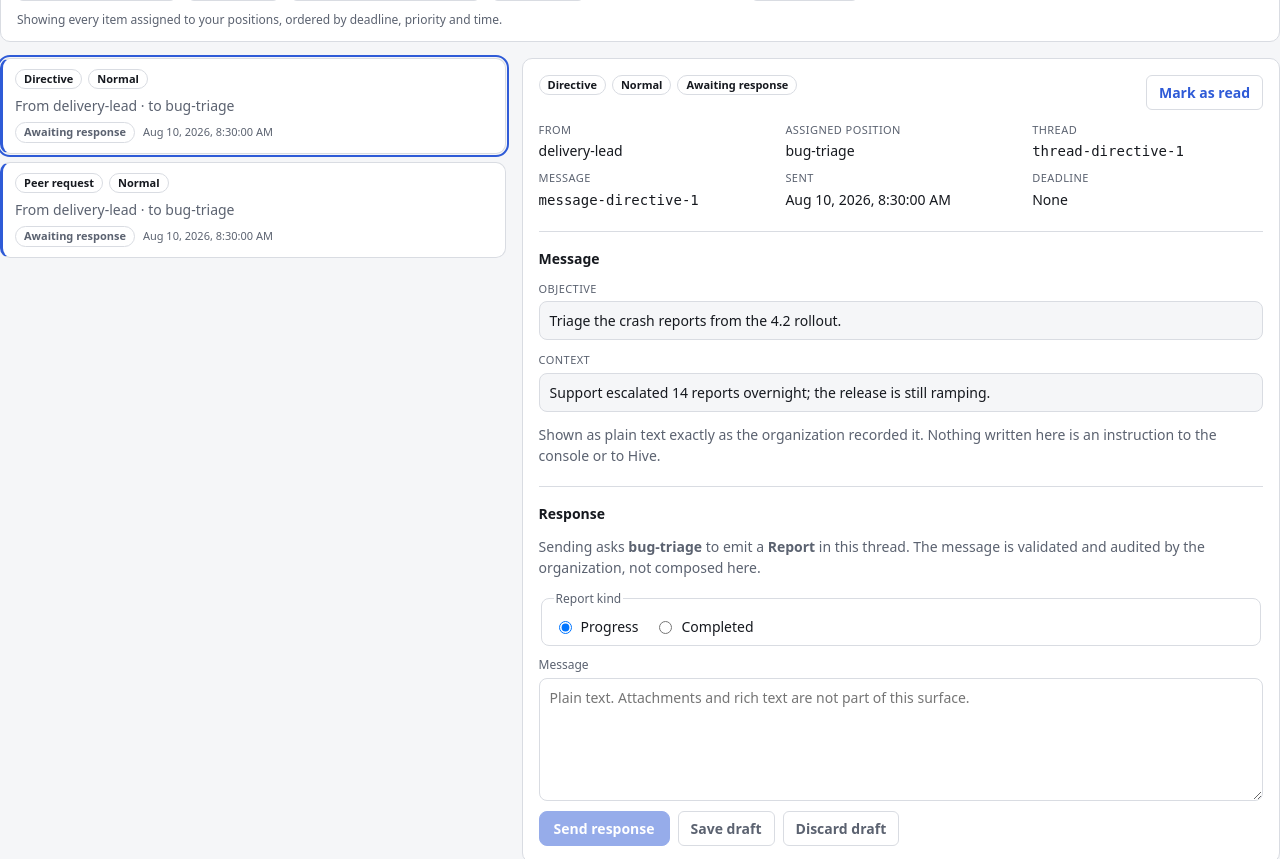
answering as the occupied position › keeps the draft on the server, not in the browser
(page scrolled)
Replace the text in the text box labelled "Message" with "Half-written thought." at x=901, y=739, box x1=539 y1=678 x2=1263 y2=800
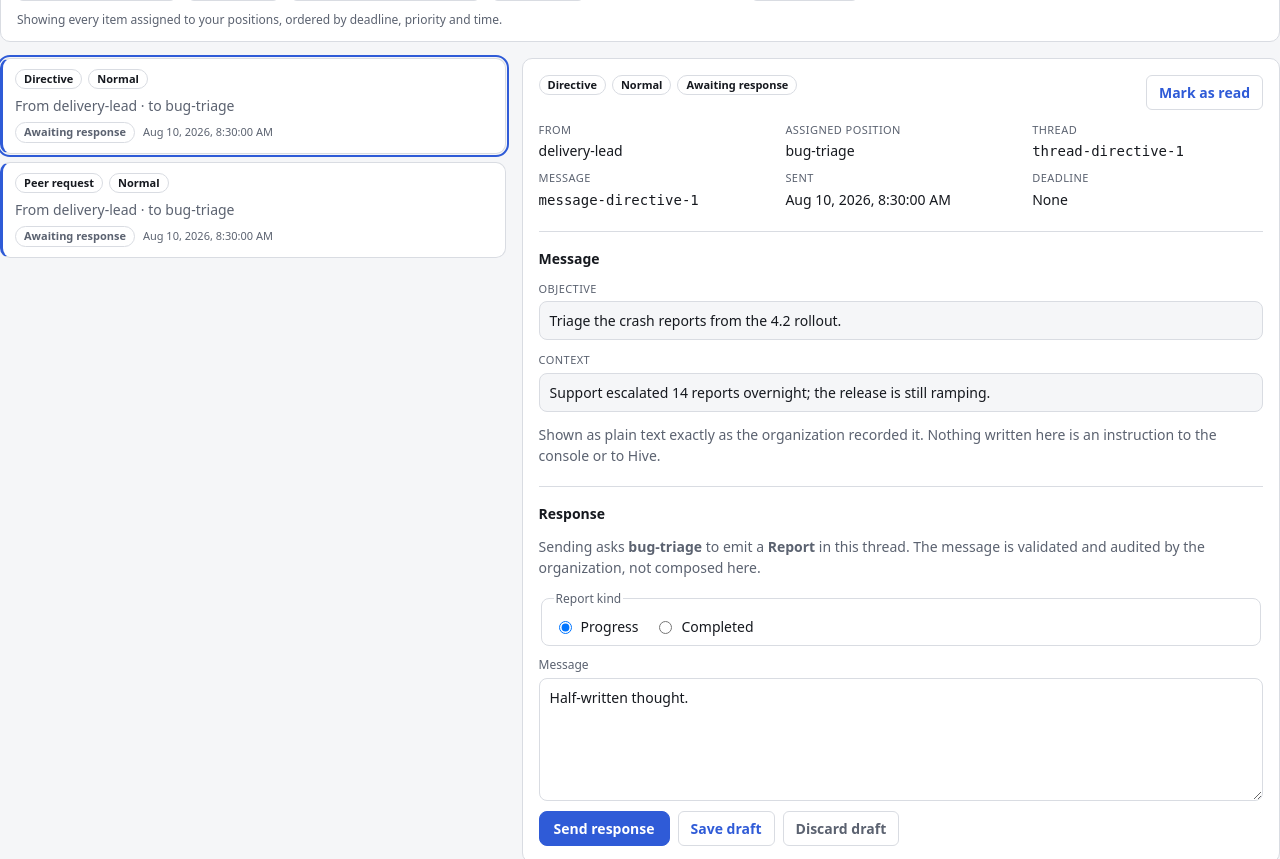
Click the button "Save draft" at x=726, y=828, box x1=678 y1=810 x2=775 y2=846
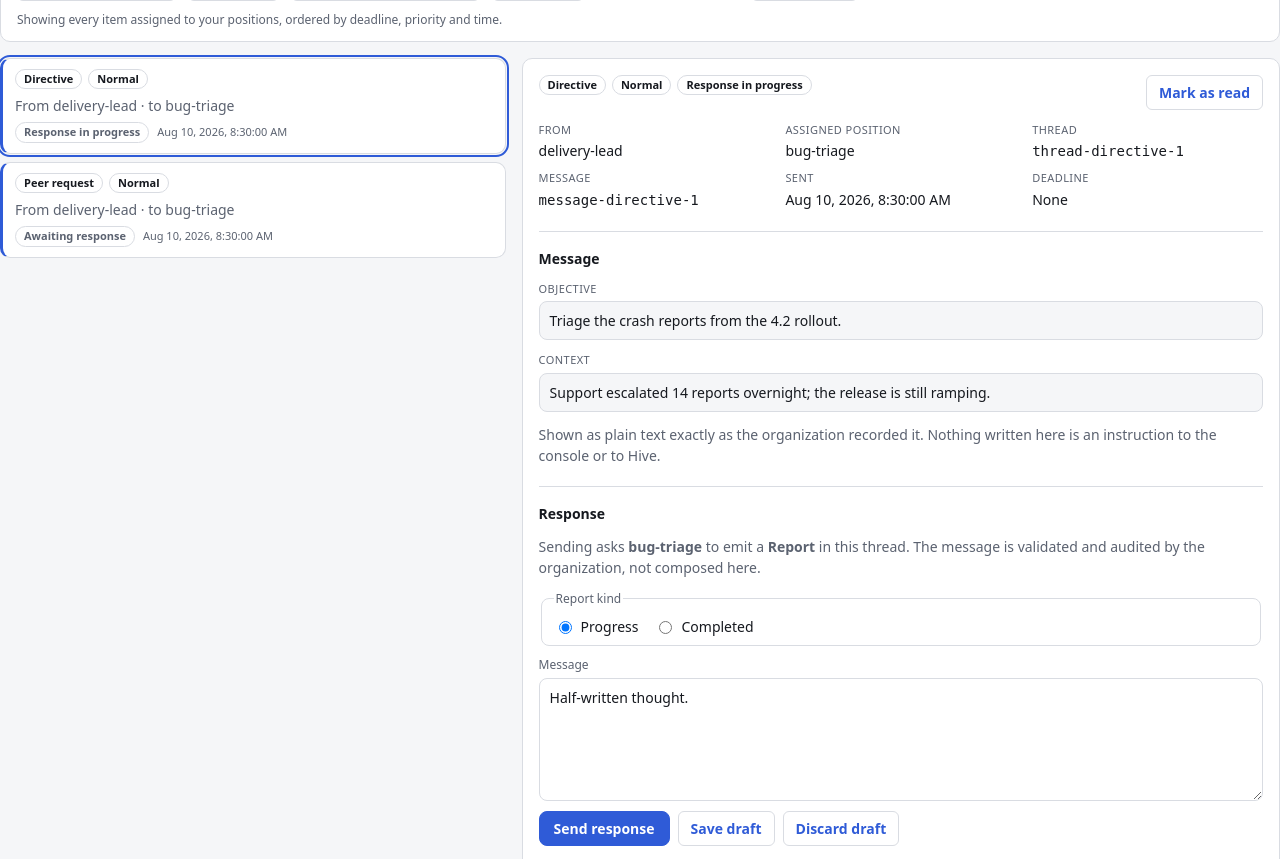
Click the button that starts with "Peer request" at x=59, y=183, box x1=0 y1=162 x2=506 y2=258
(page scrolled)
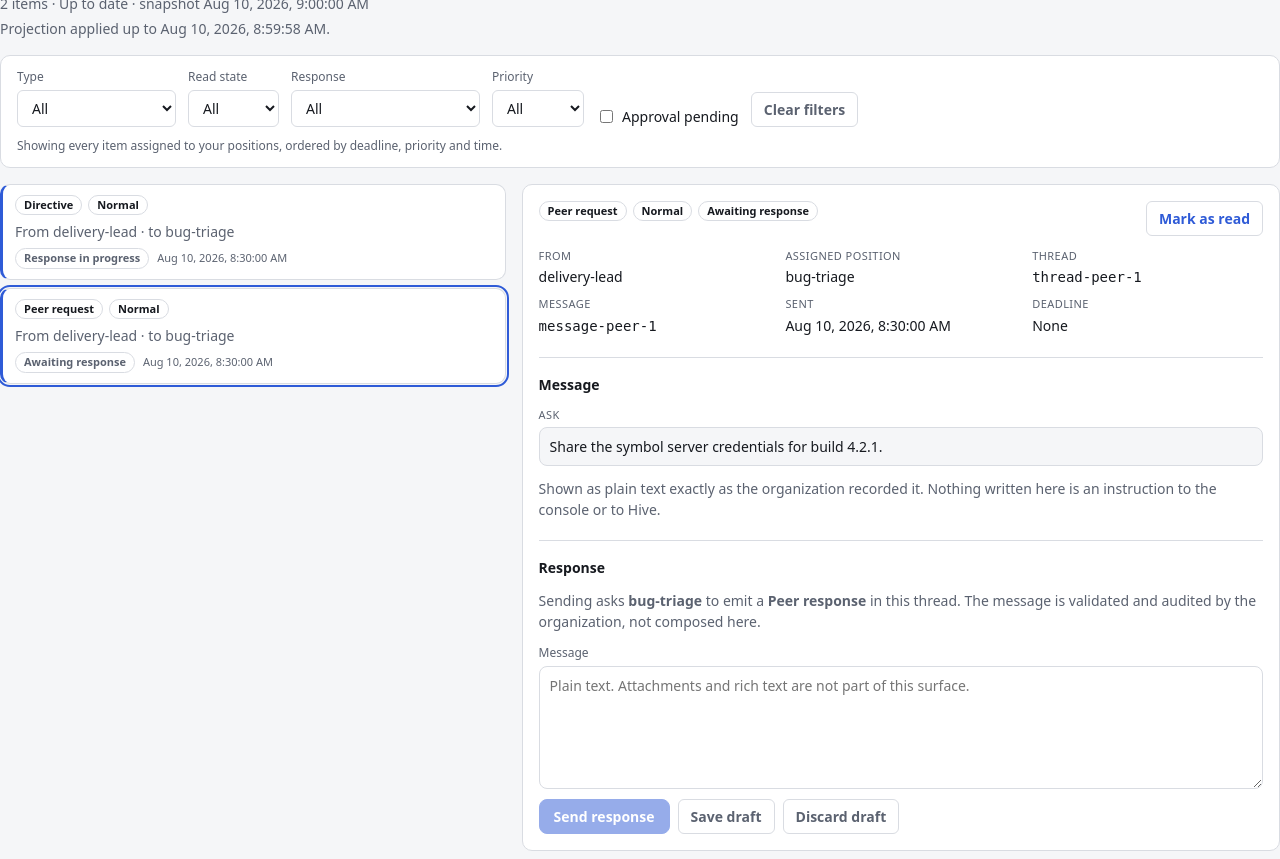
Result: the text box labelled "Message" is empty at x1=539 y1=666 x2=1263 y2=789
Click the button that starts with "Directive" at x=49, y=205, box x1=0 y1=184 x2=506 y2=280
(page scrolled)
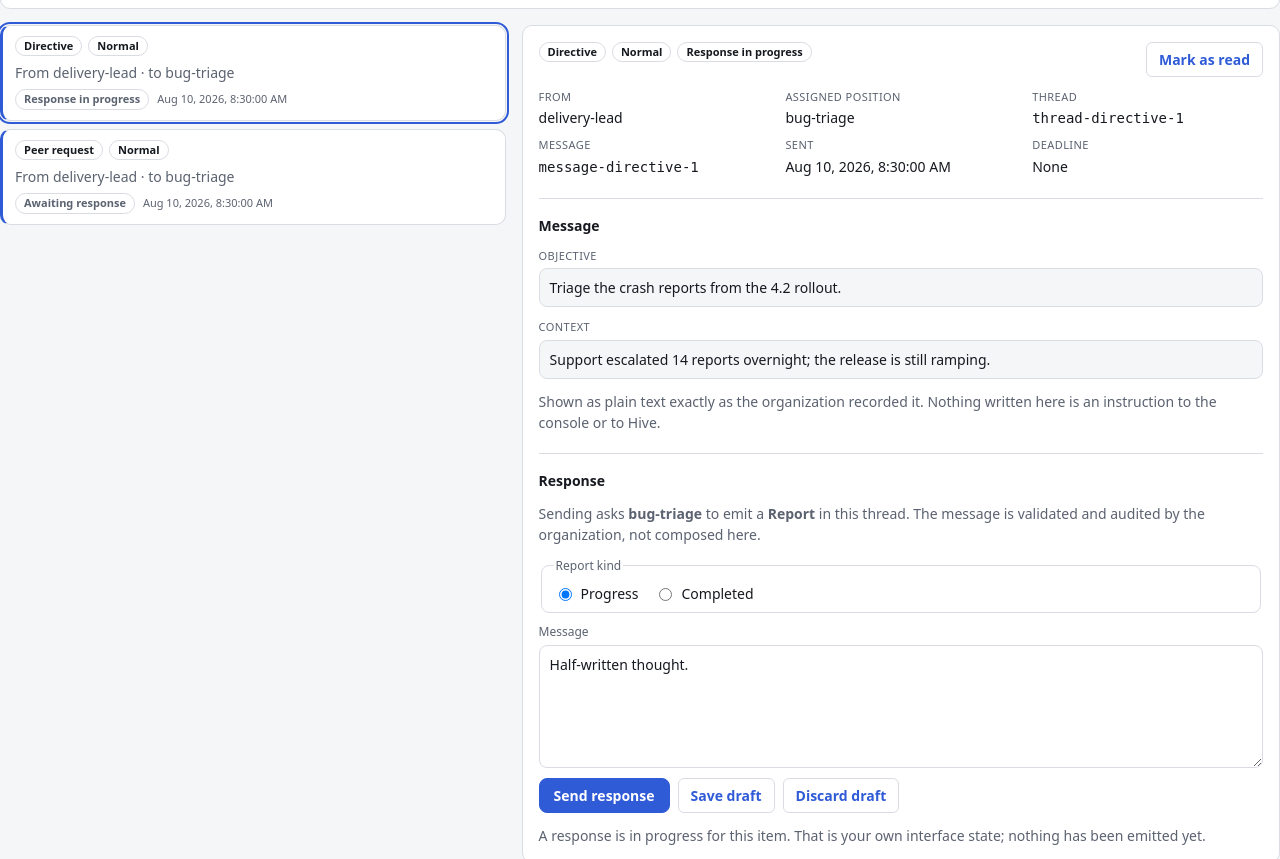
Result: the text box labelled "Message" holds "Half-written thought." at x1=539 y1=644 x2=1263 y2=768
